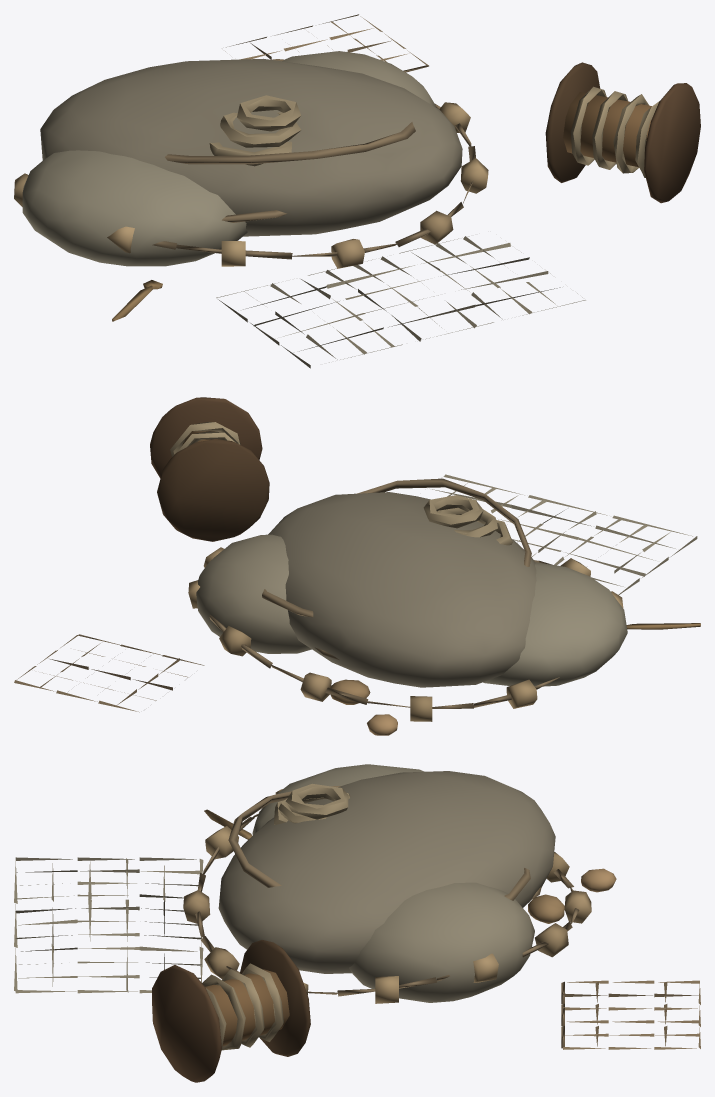
The model's file is net_hoard_b_lod2.glb.
3 renders of one model, top to bottom at view 1: azimuth 30°, elevation 25°; view 2: azimuth 150°, elevation 25°; view 3: azimuth 270°, elevation 25°, orthographic. The views are drawn at different scales.
Parts seen in each view (by area): view 1: Surface.001; view 2: Surface.001; view 3: Surface.001.
Part boxes in pixels (x1=…): Surface.001: x1=14, y1=14, x2=700, y2=368; Surface.001: x1=14, y1=397, x2=700, y2=735; Surface.001: x1=14, y1=764, x2=700, y2=1082.
Bounding box in the file's own units: 6.9 × 1.47 × 7.03.
